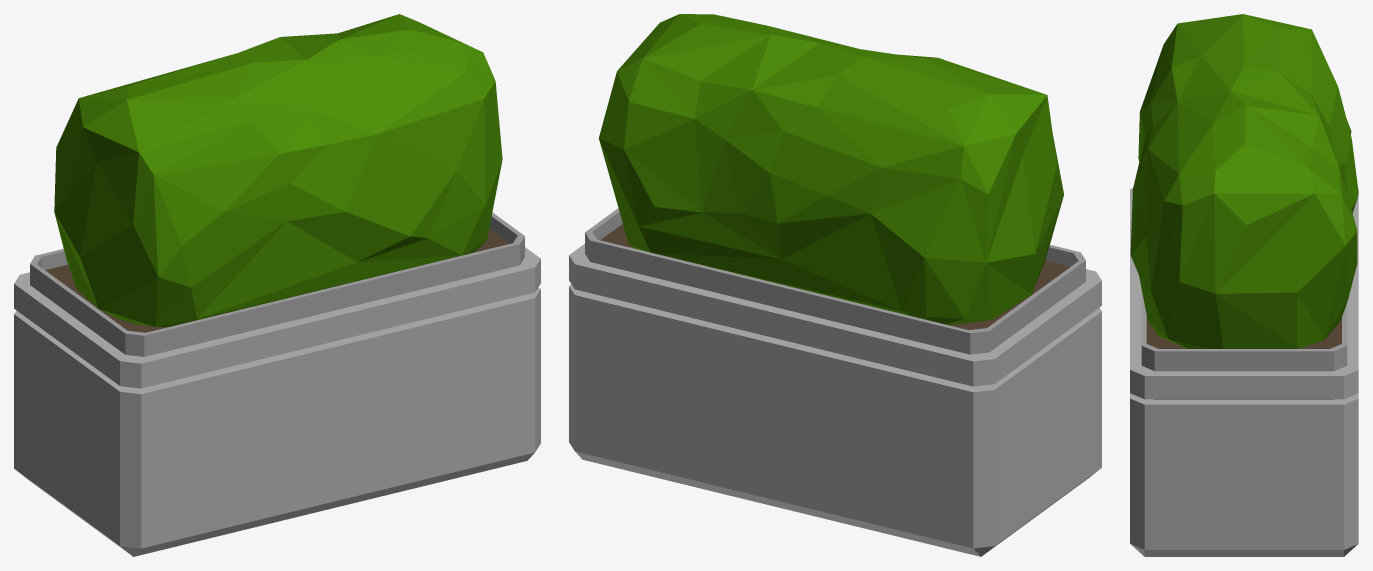
The model's file is VasoLargo_01.fbx.
The picture shows the model from 3 angles, left to right: view 1: azimuth 30°, elevation 25°; view 2: azimuth 150°, elevation 25°; view 3: azimuth 270°, elevation 25°; orthographic projection. The views are drawn at different scales.
Visible parts, largest first — view 1: Vaso2, Cube.015, Terra2; view 2: Vaso2, Cube.015, Terra2; view 3: Cube.015, Vaso2, Terra2.
Boxes of the visible parts, left/top/right/bottom form: Vaso2: left=14, top=212, right=540, bottom=556; Cube.015: left=54, top=14, right=502, bottom=327; Terra2: left=45, top=229, right=509, bottom=332; Vaso2: left=569, top=208, right=1101, bottom=556; Cube.015: left=598, top=14, right=1063, bottom=325; Terra2: left=600, top=224, right=1069, bottom=329; Cube.015: left=1130, top=14, right=1358, bottom=348; Vaso2: left=1130, top=188, right=1358, bottom=556; Terra2: left=1146, top=316, right=1341, bottom=348.
Bounding box in the file's own units: 2 × 1 × 1.88.
